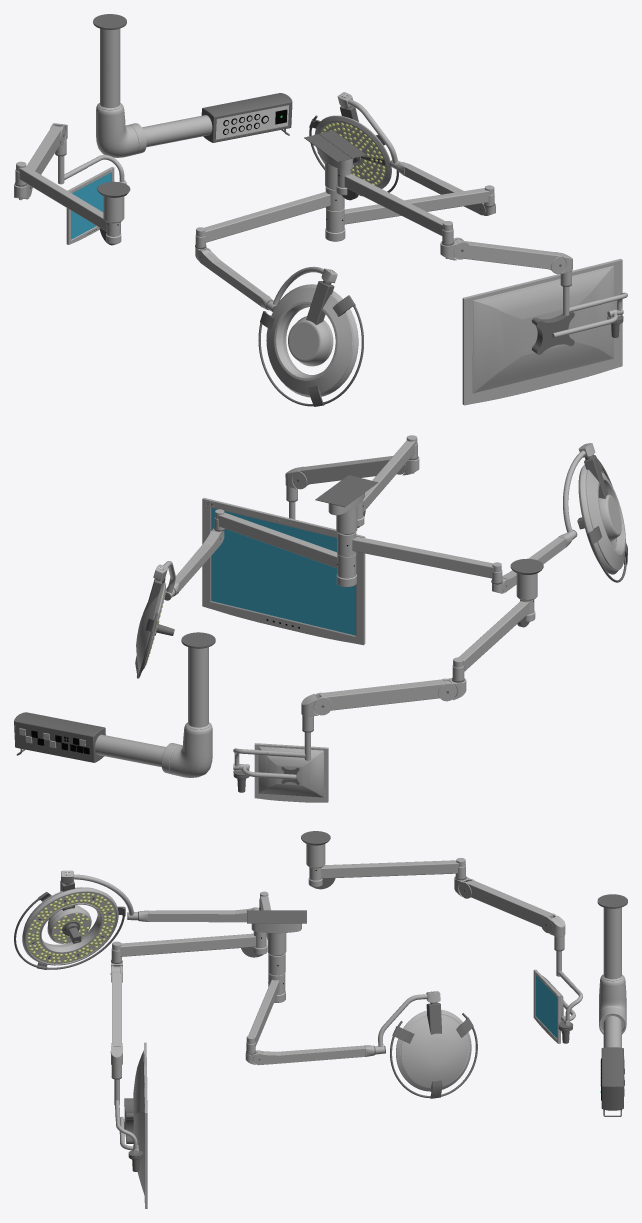
File: Powerled.fbx
The picture shows the model from 3 angles, top to bottom: view 1: azimuth 30°, elevation 25°; view 2: azimuth 150°, elevation 25°; view 3: azimuth 270°, elevation 25°; orthographic projection. The views are drawn at different scales.
Visible parts, largest first — view 1: Single flat screen 2 (1), Powerled 700 (1), Modutec PLG Maquet, Single flat screen 1 (3), Powerled 500 (1), Single flat screen 2 (2), Powerled 700 (4), Powerled 500 (4), Single flat screen 2 (3), Single flat screen 1 (1), Satelite System, Single flat screen 1 (2) (+4 smaller); view 2: Single flat screen 2 (1), Modutec PLG Maquet, Single flat screen 1 (1), Powerled 700 (1), Single flat screen 1 (2), Powerled 700 (4), Single flat screen 1 (3), Powerled 500 (4), Single flat screen 2 (2), Satelite System, Powerled 500 (1), Single flat screen 2 (3) (+3 smaller); view 3: Powerled 700 (1), Powerled 500 (1), Modutec PLG Maquet, Single flat screen 1 (3), Single flat screen 2 (1), Single flat screen 2 (3), Single flat screen 1 (1), Single flat screen 1 (2), Satelite System, Powerled 500 (3), Powerled 700 (3), Single flat screen 2 (2) (+4 smaller).
Boxes of the visible parts, <box> form: Single flat screen 2 (1): <box>462,258,627,405</box>; Powerled 700 (1): <box>258,281,363,406</box>; Modutec PLG Maquet: <box>93,14,292,157</box>; Single flat screen 1 (3): <box>15,161,130,245</box>; Powerled 500 (1): <box>309,106,398,196</box>; Single flat screen 2 (2): <box>440,237,572,286</box>; Powerled 700 (4): <box>195,186,344,249</box>; Powerled 500 (4): <box>326,185,495,232</box>; Single flat screen 2 (3): <box>336,168,454,245</box>; Single flat screen 1 (1): <box>58,155,126,244</box>; Satelite System: <box>304,130,365,241</box>; Single flat screen 1 (2): <box>14,123,67,200</box>; Single flat screen 2 (1): <box>202,497,365,645</box>; Modutec PLG Maquet: <box>14,632,215,777</box>; Single flat screen 1 (1): <box>233,732,328,802</box>; Powerled 700 (1): <box>577,454,627,582</box>; Single flat screen 1 (2): <box>301,678,466,732</box>; Powerled 700 (4): <box>337,532,502,584</box>; Single flat screen 1 (3): <box>452,558,543,682</box>; Powerled 500 (4): <box>214,509,356,578</box>; Single flat screen 2 (2): <box>285,456,419,502</box>; Satelite System: <box>315,475,378,587</box>; Powerled 500 (1): <box>135,577,174,678</box>; Single flat screen 2 (3): <box>357,435,418,527</box>; Powerled 700 (1): <box>14,880,125,969</box>; Powerled 500 (1): <box>390,1002,477,1098</box>; Modutec PLG Maquet: <box>597,894,627,1116</box>; Single flat screen 1 (3): <box>301,831,466,889</box>; Single flat screen 2 (1): <box>114,1042,147,1208</box>; Single flat screen 2 (3): <box>111,931,267,963</box>; Single flat screen 1 (1): <box>533,951,582,1043</box>; Single flat screen 1 (2): <box>454,877,565,951</box>; Satelite System: <box>247,910,306,1002</box>; Powerled 500 (3): <box>245,1045,374,1065</box>; Powerled 700 (3): <box>138,907,259,922</box>; Single flat screen 2 (2): <box>110,961,122,1079</box>.
Bounding box in the file's own units: 316 × 154 × 429.
